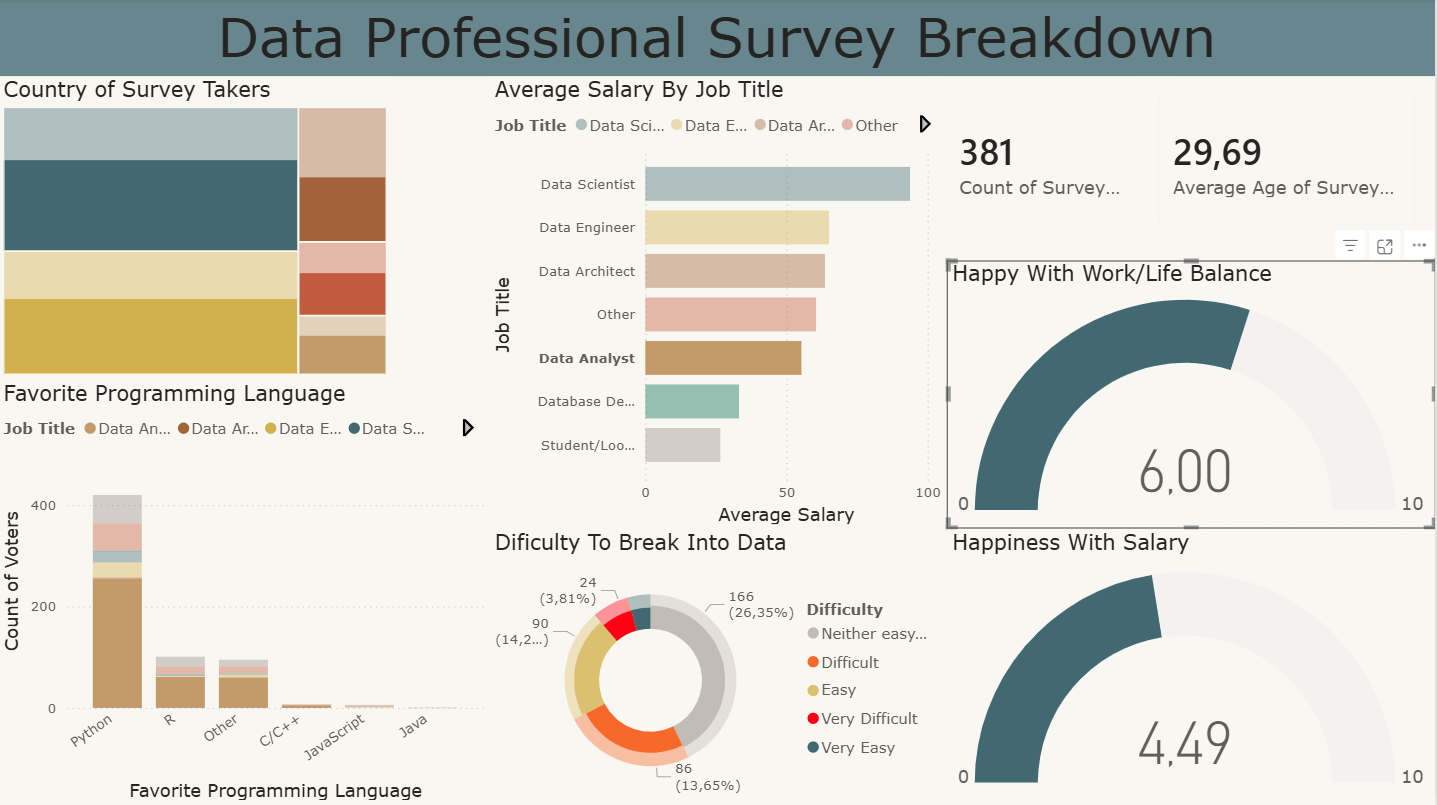

Layout of this report page (visuals, bound fields, positions):
{"tool":"powerbi","page":{"name":"Page 1","canvas":[1280,720],"ordinal":0},"visuals":[{"type":"textbox","box":[0,0,1280.3,70],"z":0},{"type":"cardVisual","fields":{"Data":["Count(Data Professional Survey.Unique ID)"]},"box":[826.1,70,220.9,149.6],"z":1000},{"type":"cardVisual","fields":{"Data":["Avg(Data Professional Survey.Q10 - Current Age)"]},"box":[1016.8,70,263.5,149.6],"z":2000},{"type":"barChart","title":"Average Salary By Job Title","fields":{"Category":["Data Professional Survey.Q1 - Which Title Best Fits your Current Role?.1"],"Y":["Avg(Data Professional Survey.Average Salary)"],"Series":["Data Professional Survey.Q1 - Which Title Best Fits your Current Role?.1"]},"box":[437.7,70,407.5,403.4],"z":3000},{"type":"columnChart","title":"Favorite Programming Language","fields":{"Category":["Data Professional Survey.Q5 - Favorite Programming Language.1"],"Y":["CountNonNull(Data Professional Survey.Unique ID)"],"Series":["Data Professional Survey.Q1 - Which Title Best Fits your Current Role?.1"]},"box":[0,340.3,437.7,378.7],"z":4000},{"type":"treemap","title":"Country of Survey Takers","fields":{"Group":["Data Professional Survey.Q11 - Which Country do you live in?.1"],"Values":["CountNonNull(Data Professional Survey.Q11 - Which Country do you live in?.1)"]},"box":[0,70,351.3,270.3],"z":5000},{"type":"gauge","title":"Happy With Work/Life Balance","fields":{"Y":["Avg(Data Professional Survey.Q6 - How Happy are you in your Current Position with the following? (Work/Life Balance))"],"MinValue":["Min(Data Professional Survey.Q6 - How Happy are you in your Current Position with the following? (Work/Life Balance))1"],"MaxValue":["Max(Data Professional Survey.Q6 - How Happy are you in your Current Position with the following? (Work/Life Balance))2"]},"box":[845.3,233.3,435,240.1],"z":6000},{"type":"gauge","title":"Happiness With Salary","fields":{"Y":["Avg(Data Professional Survey.Q6 - How Happy are you in your Current Position with the following? (Salary))"],"MinValue":["Min(Data Professional Survey.Q6 - How Happy are you in your Current Position with the following? (Salary))"],"MaxValue":["Max(Data Professional Survey.Q6 - How Happy are you in your Current Position with the following? (Salary))"]},"box":[845.3,473.4,435,247],"z":7000},{"type":"donutChart","title":"Dificulty To Break Into Data","fields":{"Category":["Data Professional Survey.Q7 - How difficult was it for you to break into Data?"],"Y":["CountNonNull(Data Professional Survey.Q7 - How difficult was it for you to break into Data?)"]},"box":[437.7,473.4,407.5,247],"z":8000}]}

Visuals, with their boxes in screenshot pixels (x1, y1, x2, y2), scaled from the page's 1280x720 canvas onto the 1437x805 screenshot:
textbox: crop(0, 0, 1436, 78)
cardVisual - Count(Data Professional Survey.Unique ID): crop(927, 78, 1175, 246)
cardVisual - Avg(Data Professional Survey.Q10 - Current Age): crop(1142, 78, 1436, 246)
"Average Salary By Job Title" barChart: crop(491, 78, 949, 529)
"Favorite Programming Language" columnChart: crop(0, 380, 491, 804)
"Country of Survey Takers" treemap: crop(0, 78, 394, 380)
"Happy With Work/Life Balance" gauge: crop(949, 261, 1436, 529)
"Happiness With Salary" gauge: crop(949, 529, 1436, 804)
"Dificulty To Break Into Data" donutChart: crop(491, 529, 949, 804)
